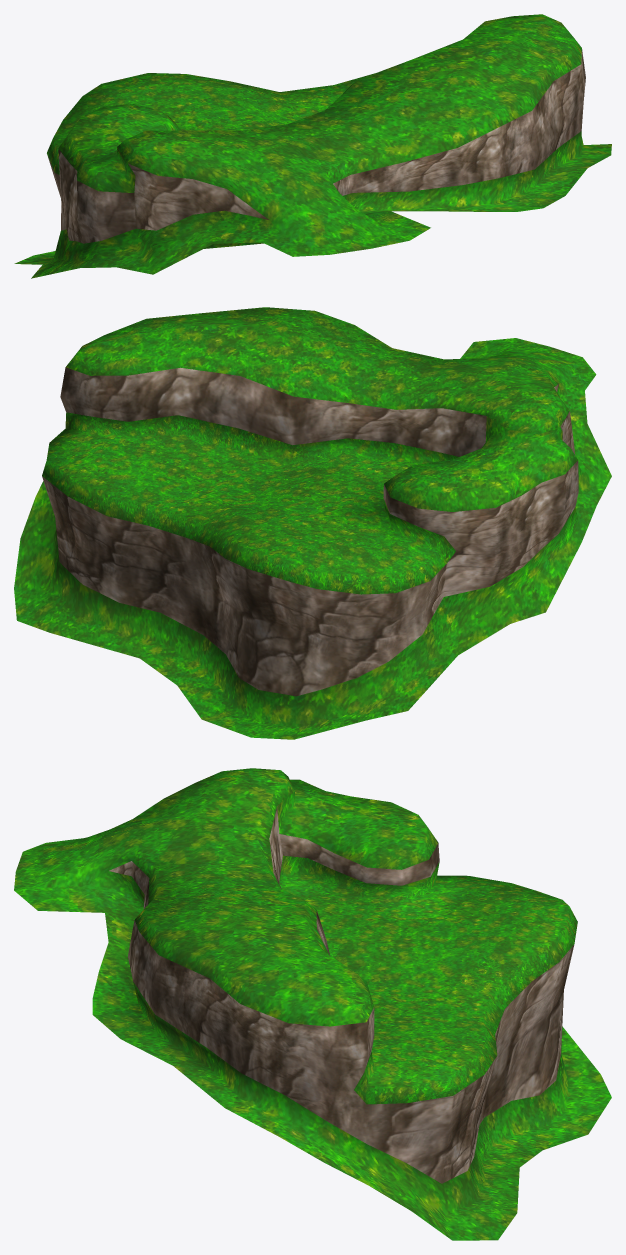
File: EKH_ENTRANCE_PS_EN_DIRTMOUND8476__GX.fbx
3 renders of one model, top to bottom at view 1: azimuth 30°, elevation 25°; view 2: azimuth 150°, elevation 25°; view 3: azimuth 270°, elevation 25°, orthographic. The views are drawn at different scales.
Parts seen in each view (by area): view 1: EKH_ENTRANCE_PS_EN_DIRTMOUND8476__GX; view 2: EKH_ENTRANCE_PS_EN_DIRTMOUND8476__GX; view 3: EKH_ENTRANCE_PS_EN_DIRTMOUND8476__GX.
Part boxes in pixels (x1,y1,x2,y2): EKH_ENTRANCE_PS_EN_DIRTMOUND8476__GX: (14, 14, 611, 278); EKH_ENTRANCE_PS_EN_DIRTMOUND8476__GX: (14, 307, 611, 739); EKH_ENTRANCE_PS_EN_DIRTMOUND8476__GX: (14, 768, 611, 1240).
Bounding box in the file's own units: 164169 × 75679 × 152709.
2 materials, 2 textured.
